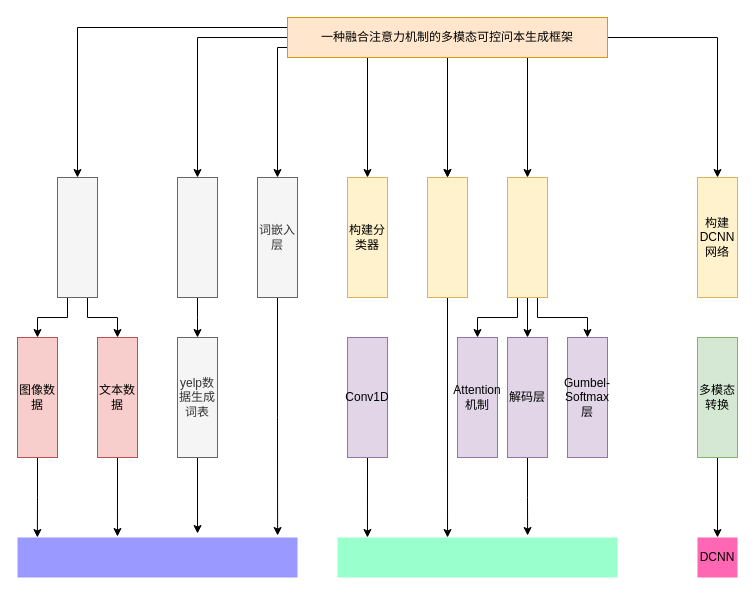
This 755x595 diagram has some shape labels left out. The shapes that lost their labels are listed below. From the top down, each one's box as (x1, y1, x2, y2) in pixels, then its label:
(56, 176, 98, 298): 数据预处理
(176, 176, 218, 298): 构建词表
(426, 176, 468, 298): 构建Encoder网络
(506, 176, 548, 298): 构建Decoder网络
(17, 537, 297, 577): WordEmbedder
(337, 537, 617, 577): GAN
